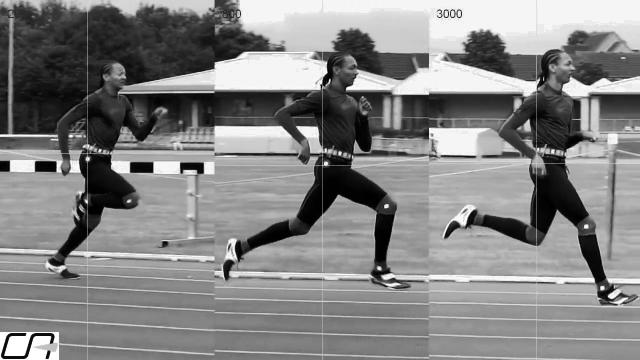berlari: (440, 46, 640, 304), (219, 49, 415, 292), (32, 55, 172, 282)
